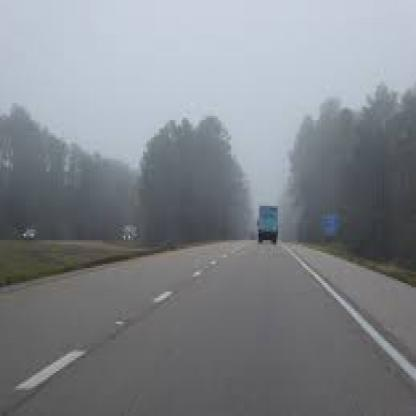car: (244, 189, 283, 244)
